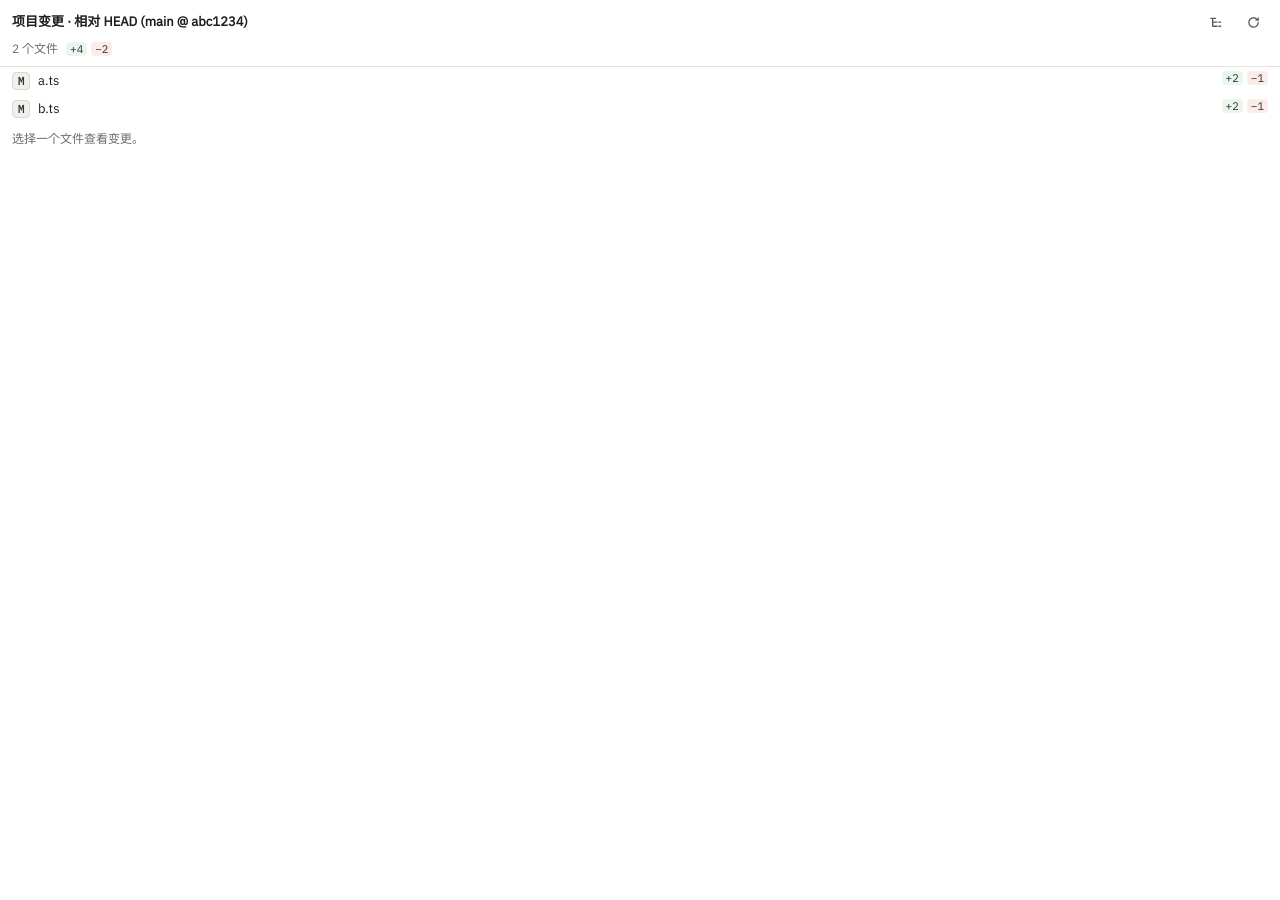
Test case: loading, refreshing and failure never pass stale content off as current › tells the user that a selected file no longer differs, and the notice can be dismissed
Click the option "M a.ts +2 −1" at (21, 81), box [0, 67, 1279, 94]
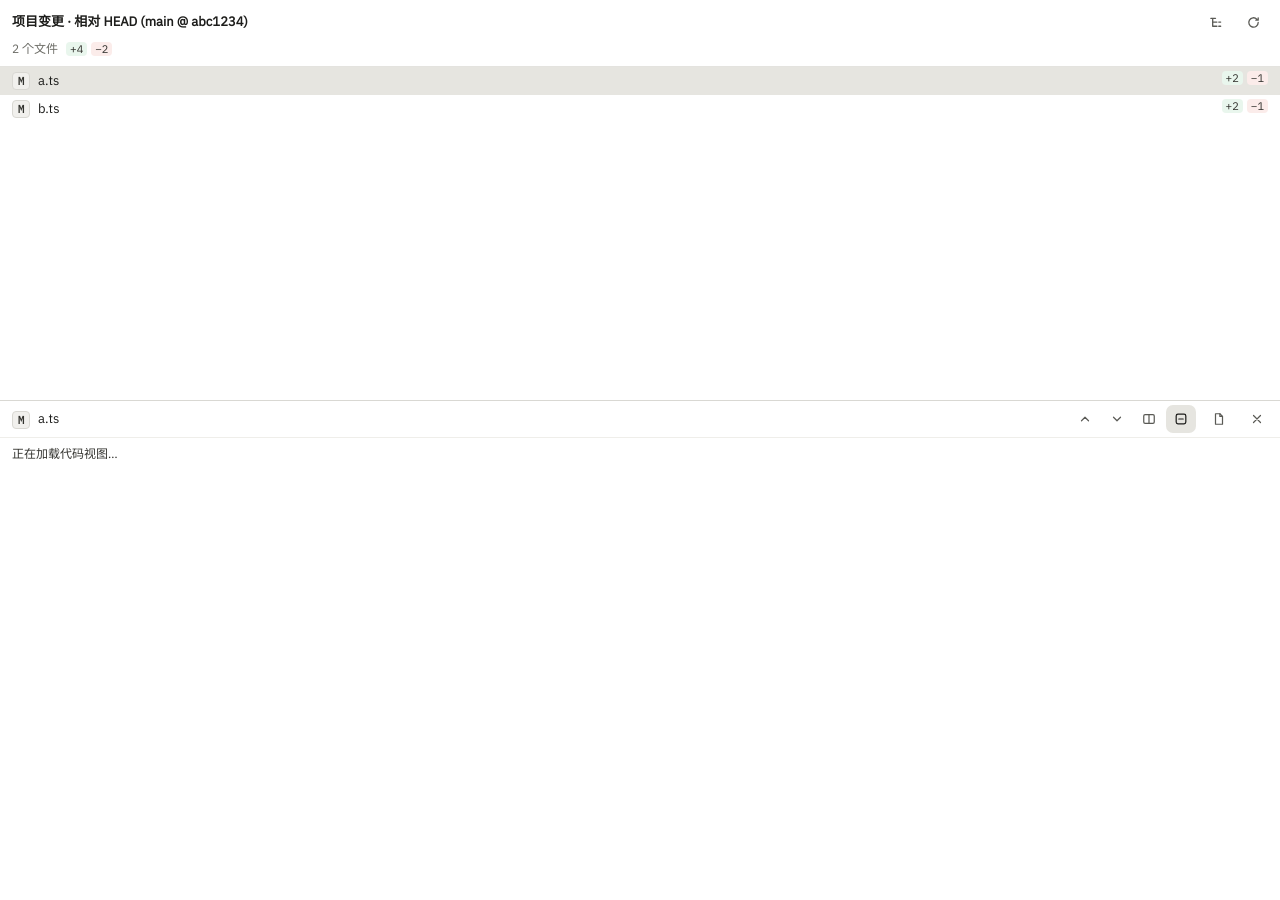
Expected: the element named "a.ts 的变更" is shown, [0, 400, 1279, 899]
Click the button named "刷新项目变更" at (1253, 22), box [1238, 8, 1268, 36]
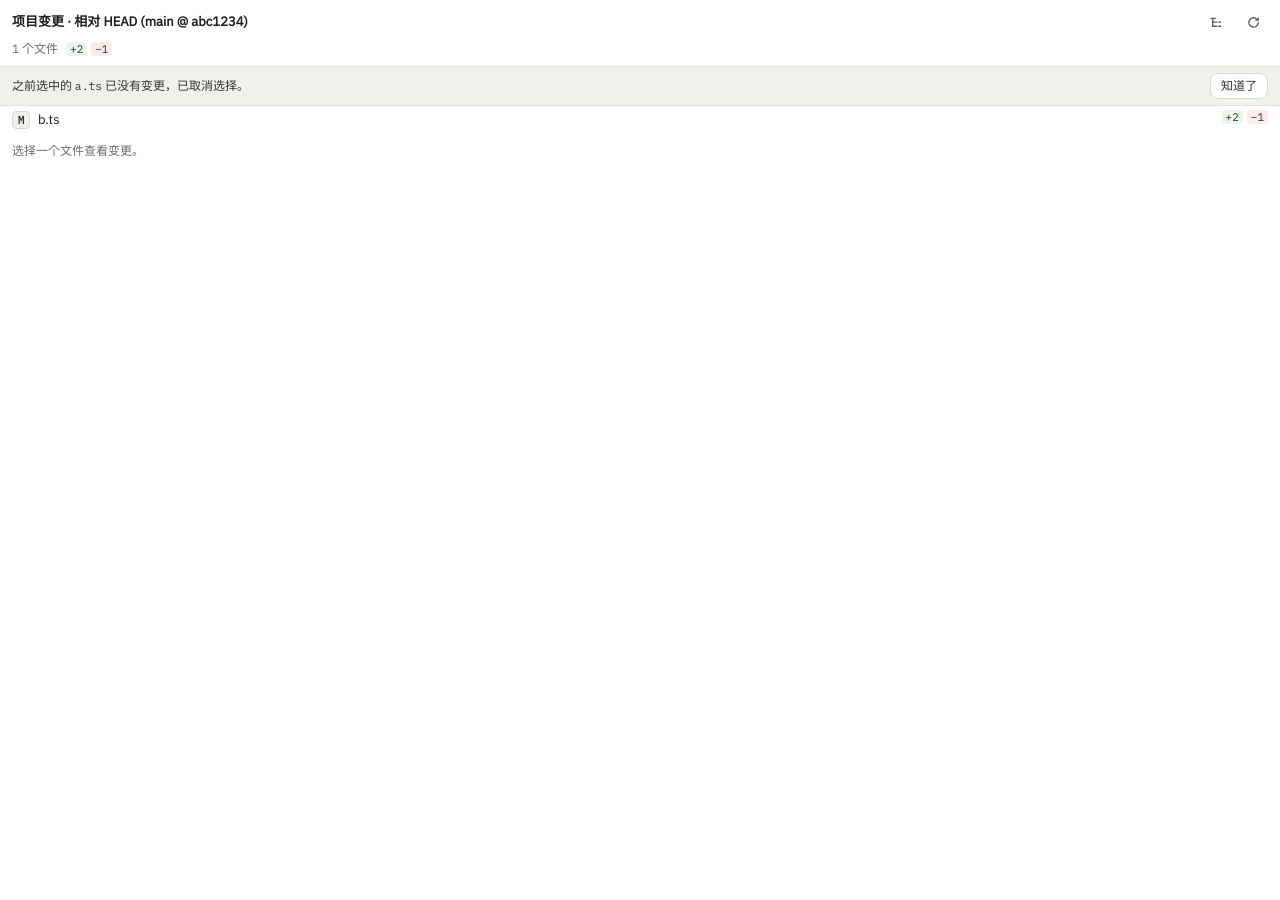
Expected: the text "之前选中的 a.ts 已没有变更，已取消选择。" is shown, [12, 77, 249, 95]
Expected: the number of options is 1, [0, 106, 1279, 134]
Click the button "知道了" at (1239, 86), box [1210, 73, 1268, 99]
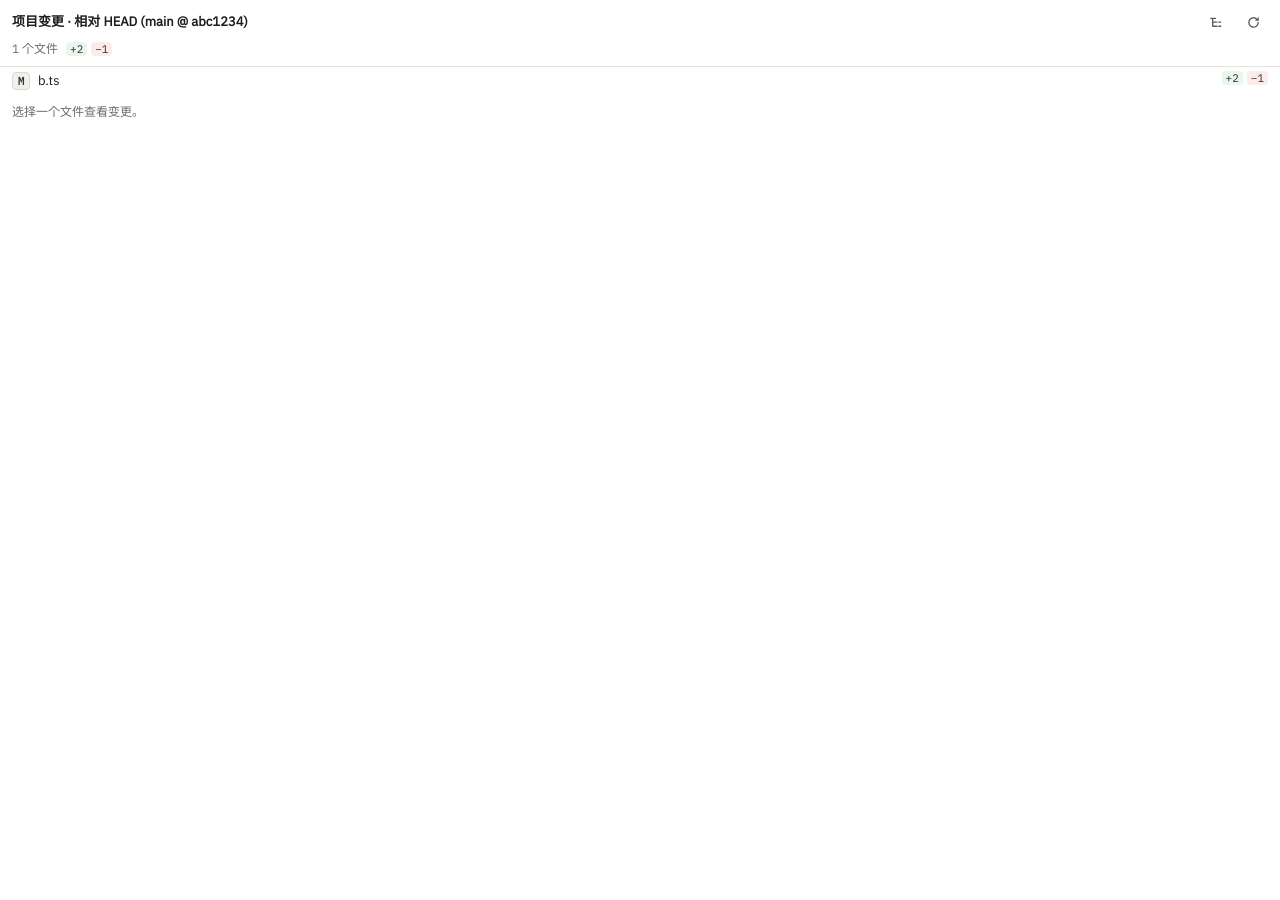
Expected: the text "已没有变更，已取消选择" is gone
